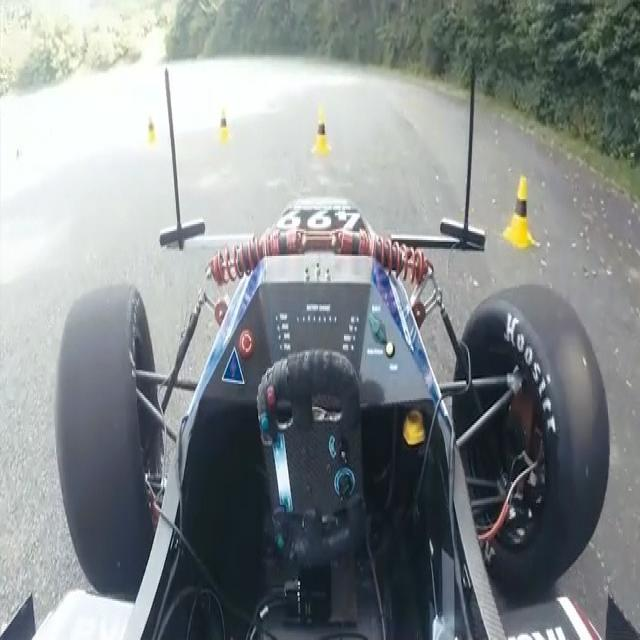yellow_cone: (503, 172, 535, 249), (312, 106, 331, 157), (214, 106, 230, 148), (147, 114, 159, 148)
